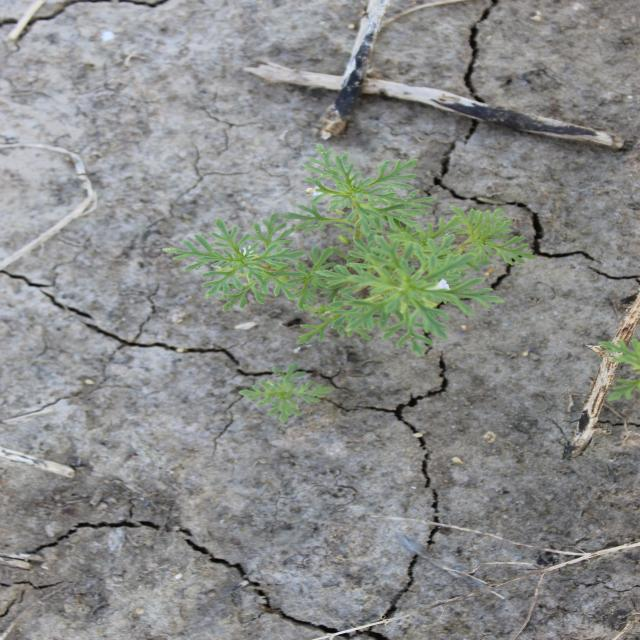Ragweed: (158, 142, 538, 358), (236, 361, 337, 426), (600, 332, 637, 401)
